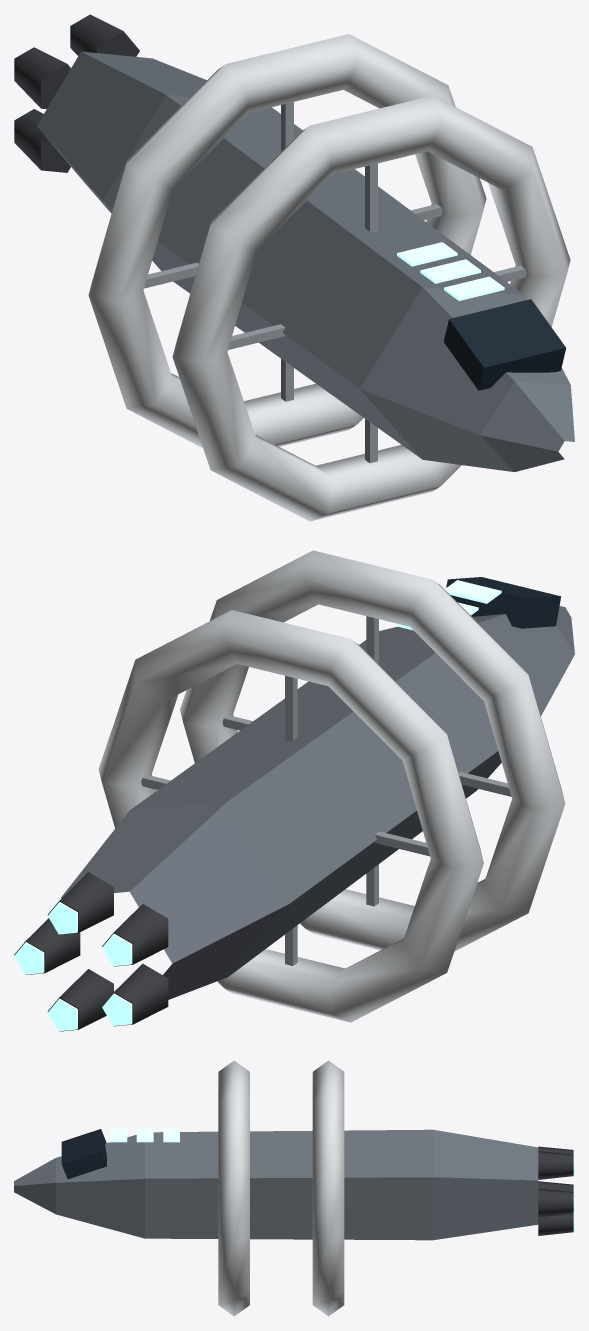
Rendered from space_ship_colony_transport_mk3_lod1.glb.
3 renders of one model, top to bottom at view 1: azimuth 30°, elevation 25°; view 2: azimuth 150°, elevation 25°; view 3: azimuth 270°, elevation 25°, orthographic. The views are drawn at different scales.
Visible parts, largest first — view 1: body, habitat_ring_1, habitat_ring_0, engine_2, engine_1, engine_3; view 2: body, habitat_ring_0, habitat_ring_1, engine_3, engine_2, engine_1, engine_4, engine_0; view 3: body, habitat_ring_0, habitat_ring_1, engine_1, engine_0, engine_4.
Part boxes in pixels (x1,y1,x2,y2): body: [37, 51, 574, 472]; habitat_ring_1: [172, 95, 570, 521]; habitat_ring_0: [88, 34, 486, 447]; engine_2: [14, 47, 70, 109]; engine_1: [70, 14, 139, 56]; engine_3: [14, 109, 70, 172]; body: [61, 577, 574, 999]; habitat_ring_0: [98, 610, 483, 1022]; habitat_ring_1: [180, 550, 565, 951]; engine_3: [102, 963, 168, 1026]; engine_2: [102, 904, 168, 966]; engine_1: [47, 872, 113, 934]; engine_4: [47, 969, 113, 1031]; engine_0: [14, 918, 80, 974]; body: [14, 1128, 538, 1240]; habitat_ring_0: [312, 1060, 344, 1316]; habitat_ring_1: [218, 1060, 249, 1316]; engine_1: [538, 1151, 574, 1179]; engine_0: [538, 1189, 574, 1217]; engine_4: [538, 1213, 574, 1235].
Size of the model in its own units: 24.42 by 23.22 by 53.08.
